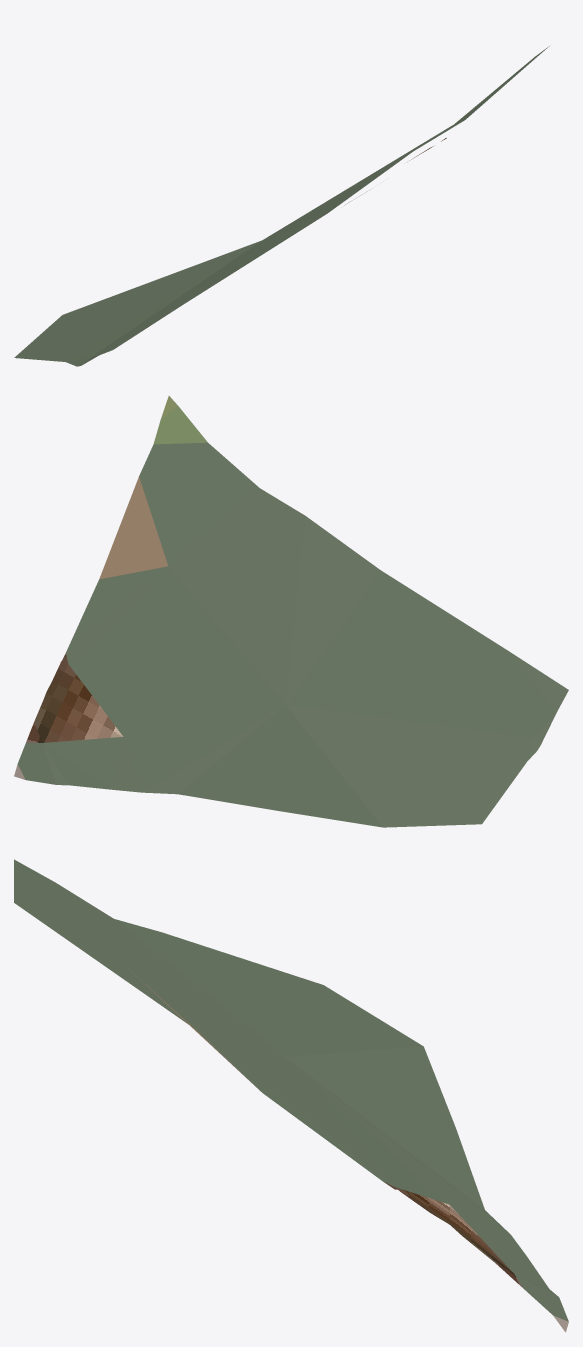
The picture shows the model from 3 angles, top to bottom: view 1: azimuth 30°, elevation 25°; view 2: azimuth 150°, elevation 25°; view 3: azimuth 270°, elevation 25°; orthographic projection. The views are drawn at different scales.
Size of the model in its own units: 0.4915 by 0.3142 by 0.3315.
1 material, 1 textured.
